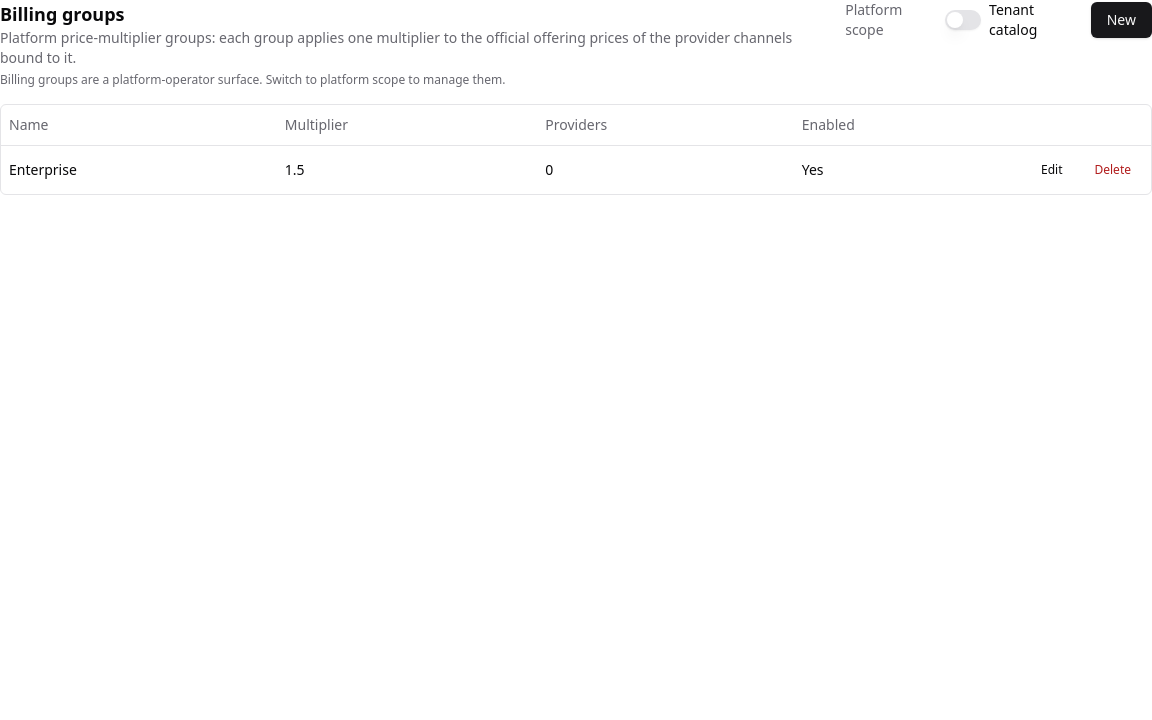
it: billing-groups CRUD › rejects a negative multiplier before any request
The image size is (1152, 720).
Expected: the text "Enterprise" is shown, [1,145,277,194]
Click the button "Edit" at (1052, 170), box [1029,154,1074,186]
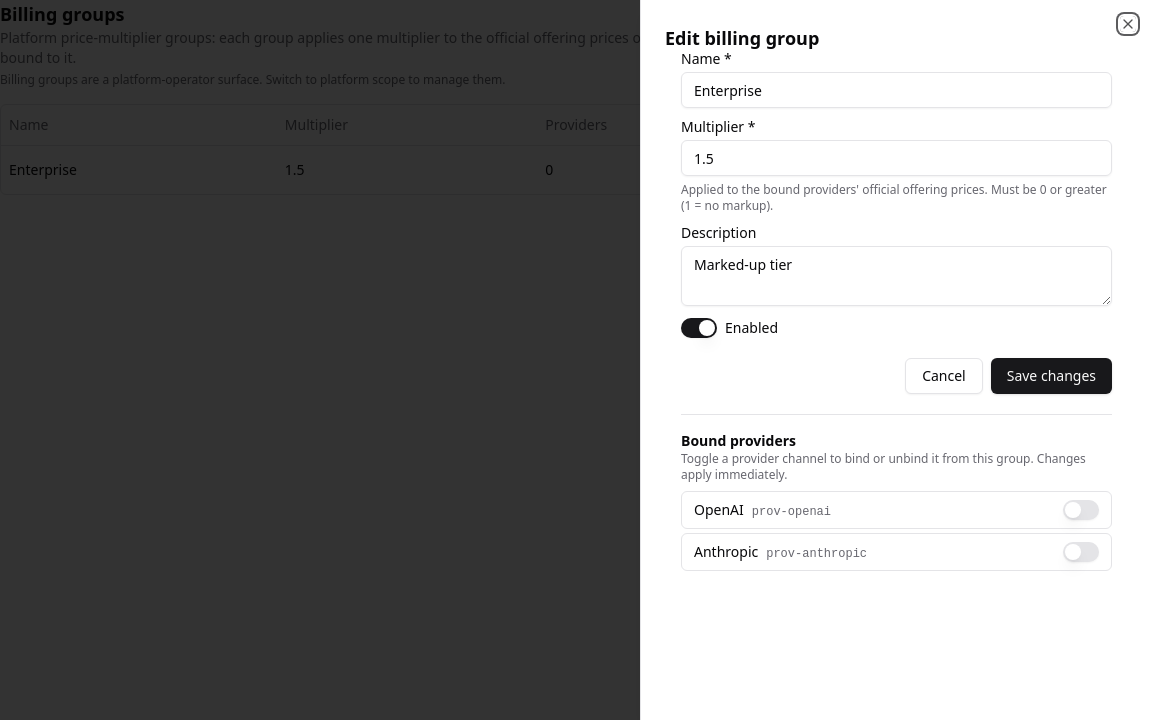
Replace the text in the number field labelled "Multiplier *" with "-1" at (896, 158), box [681,140,1112,176]
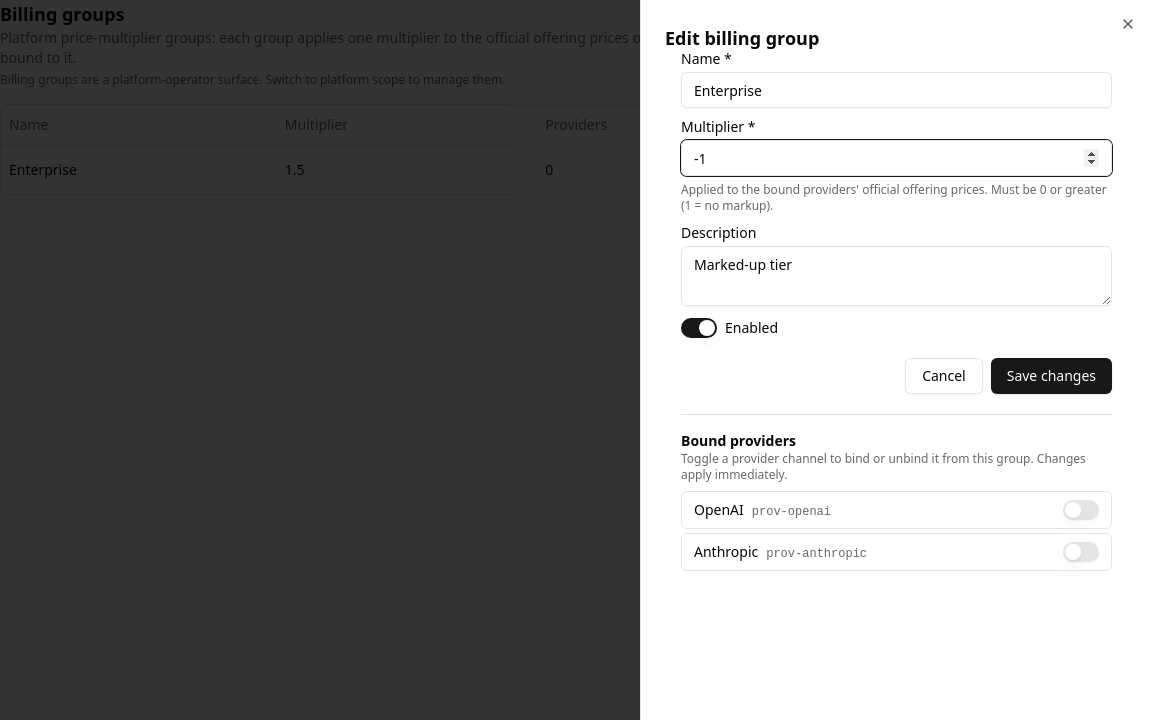
Click the button "Save changes" at (1051, 376), box [991,358,1112,394]
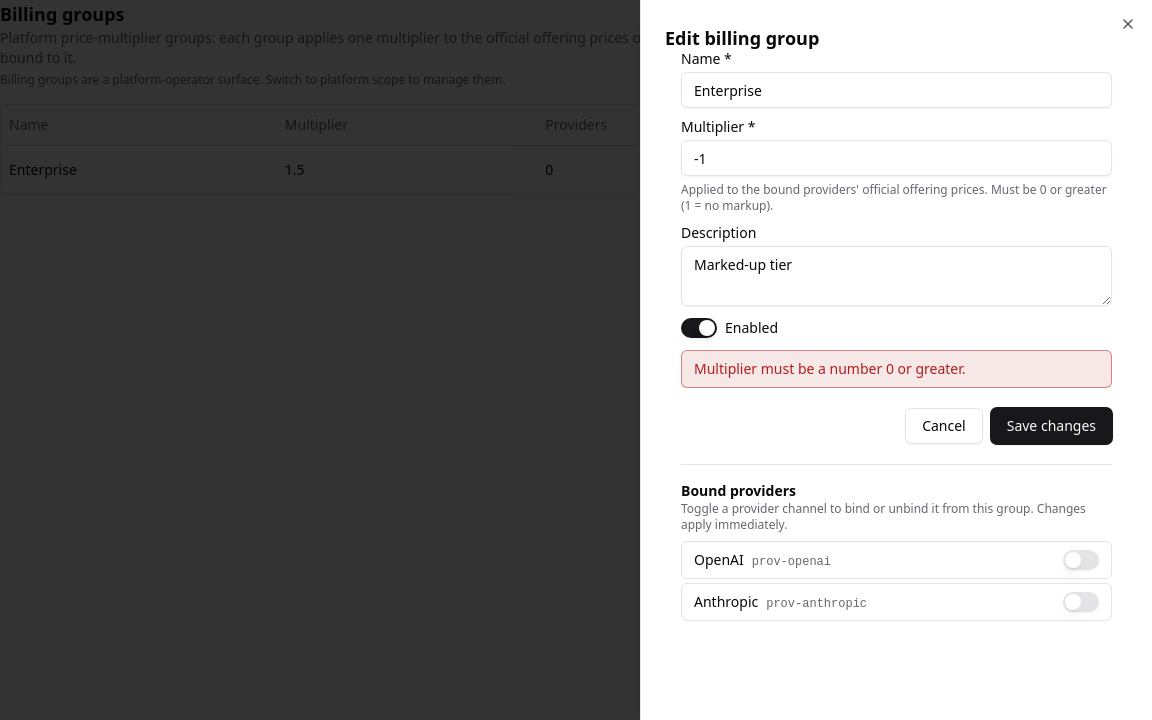
Expected: the message reads "Multiplier must be a number 0 or greater.", [694,359,966,378]
